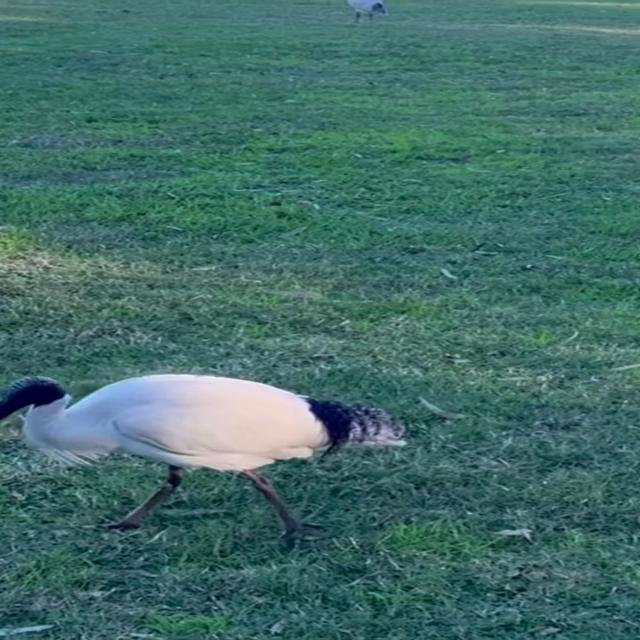Birds-Ibis: (0, 371, 412, 551)
